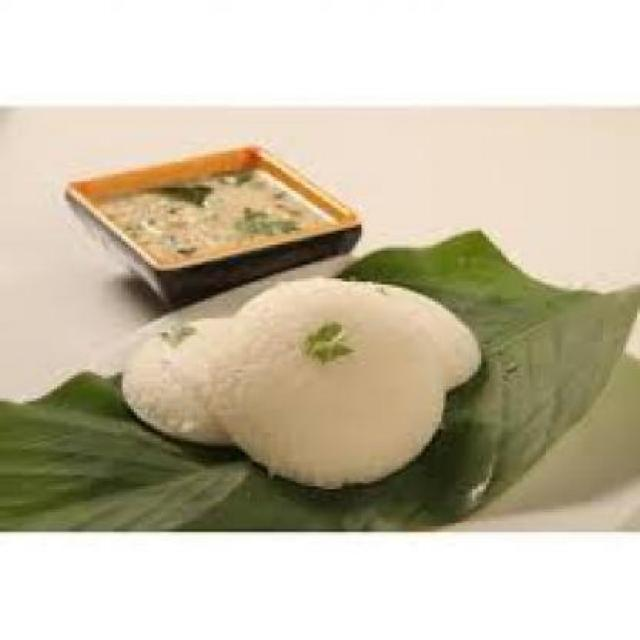idli: (214, 277, 443, 486), (120, 317, 243, 445), (351, 283, 478, 391)
